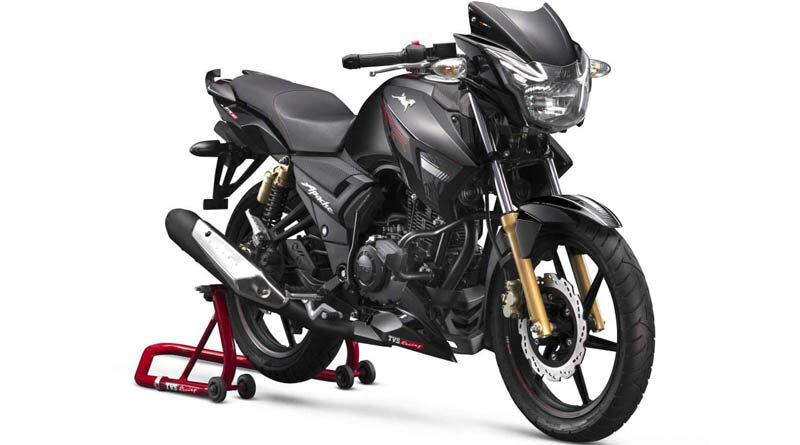motorbike: (165, 2, 655, 443)
